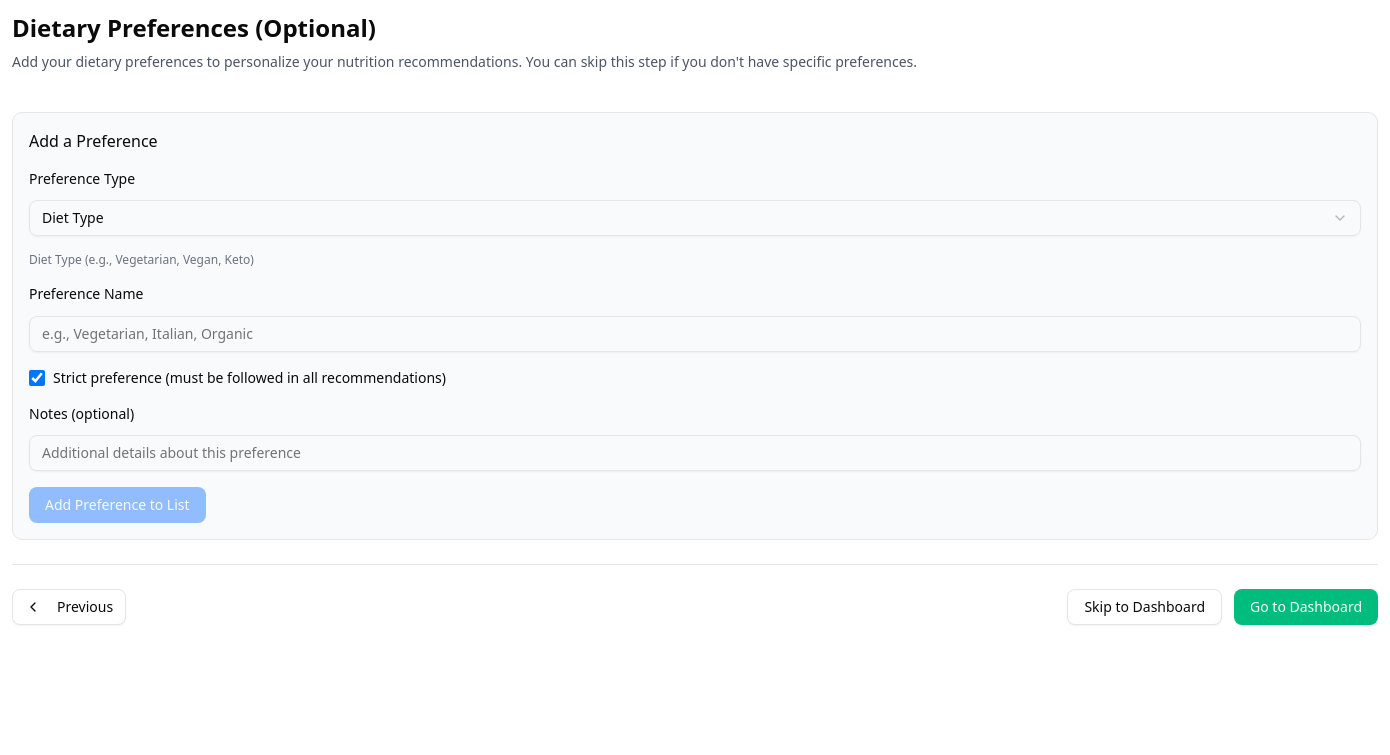
Step3PreferencesForm › allows adding a preference to the list
The image size is (1390, 755).
Fill in preference name
Type "Vegetarian" into the field with placeholder "e.g., Vegetarian, Italian, Organic" at {"x": 695, "y": 334}, box [29,316,1361,352]
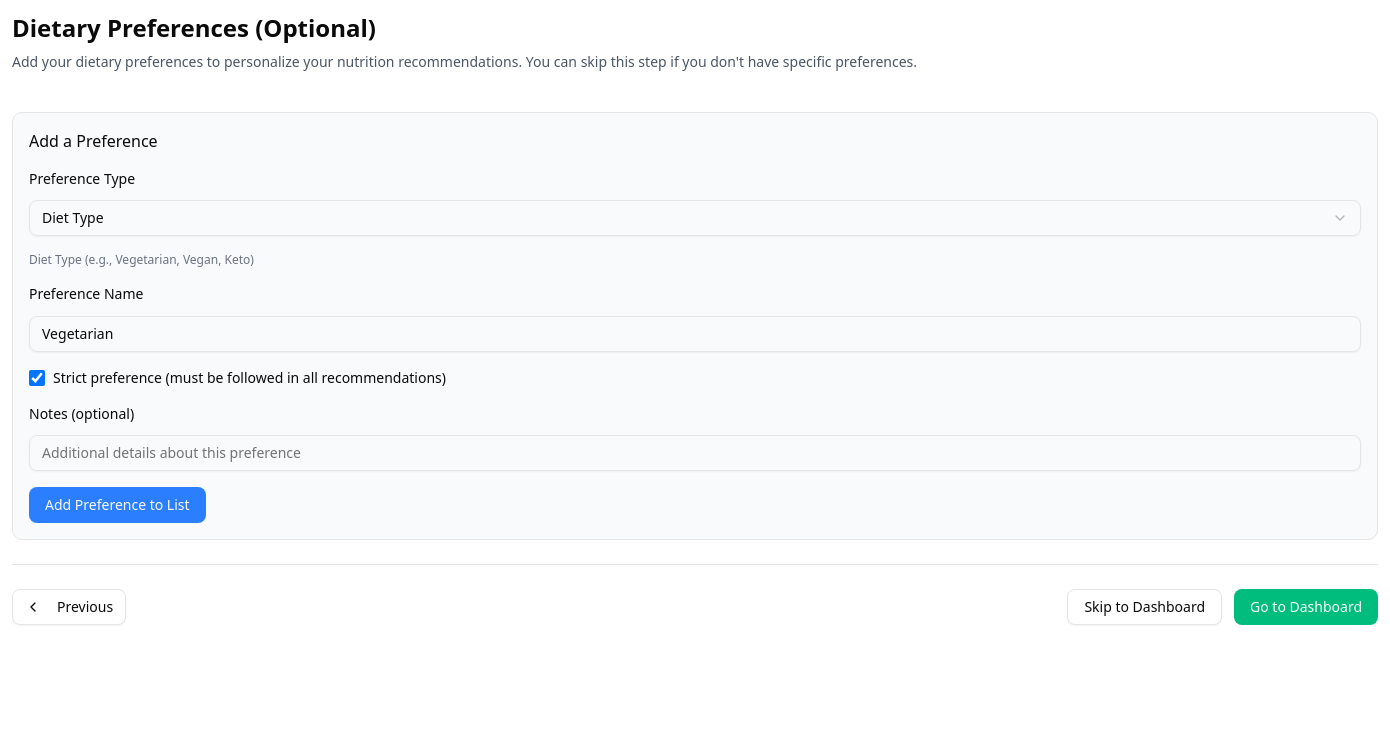
Click Add button
Click the button "Add Preference to List" at {"x": 117, "y": 505}, box [29,487,206,523]
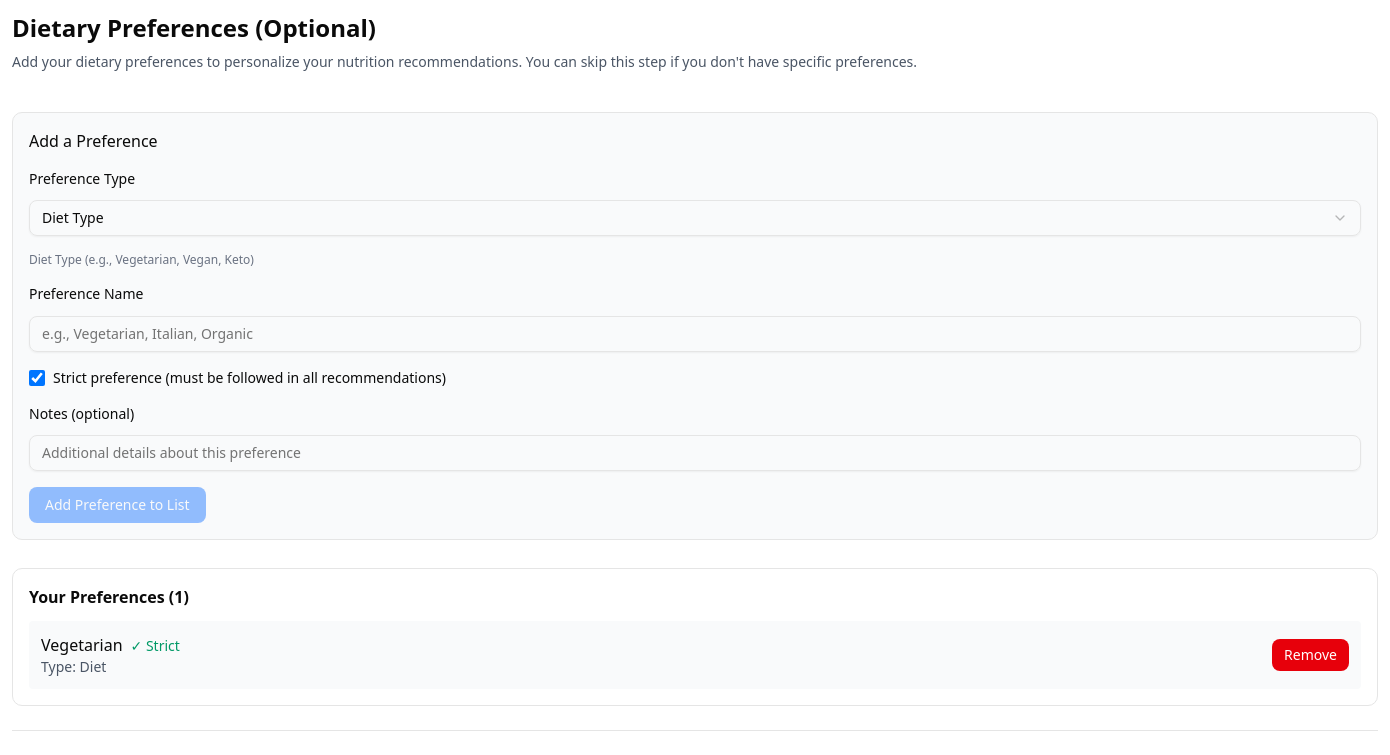
Check: the heading "Your Preferences (1)" is shown, box [29,586,189,608]
Check: the text "Vegetarian" is shown, box [41,634,122,656]
